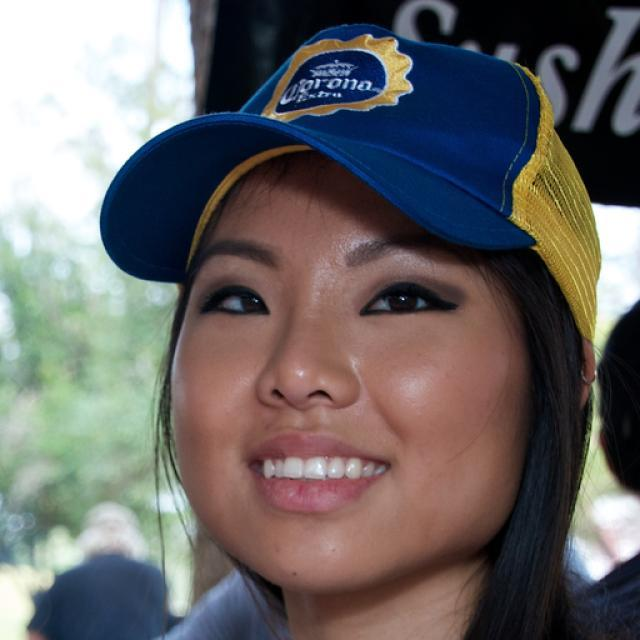happy: (174, 165, 526, 591)
